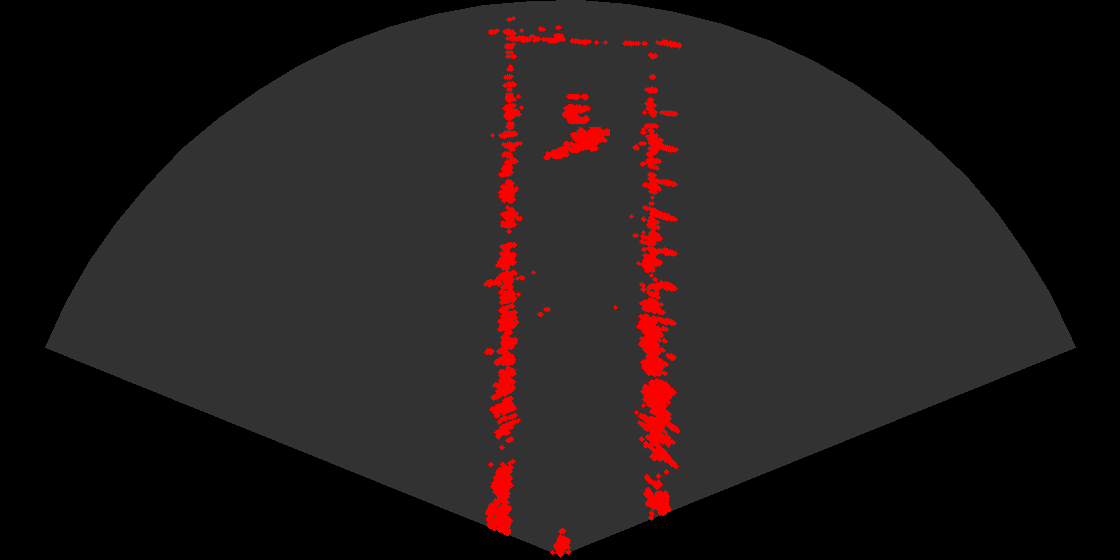ball: (542, 86, 602, 127)
frogman: (542, 117, 610, 164)
